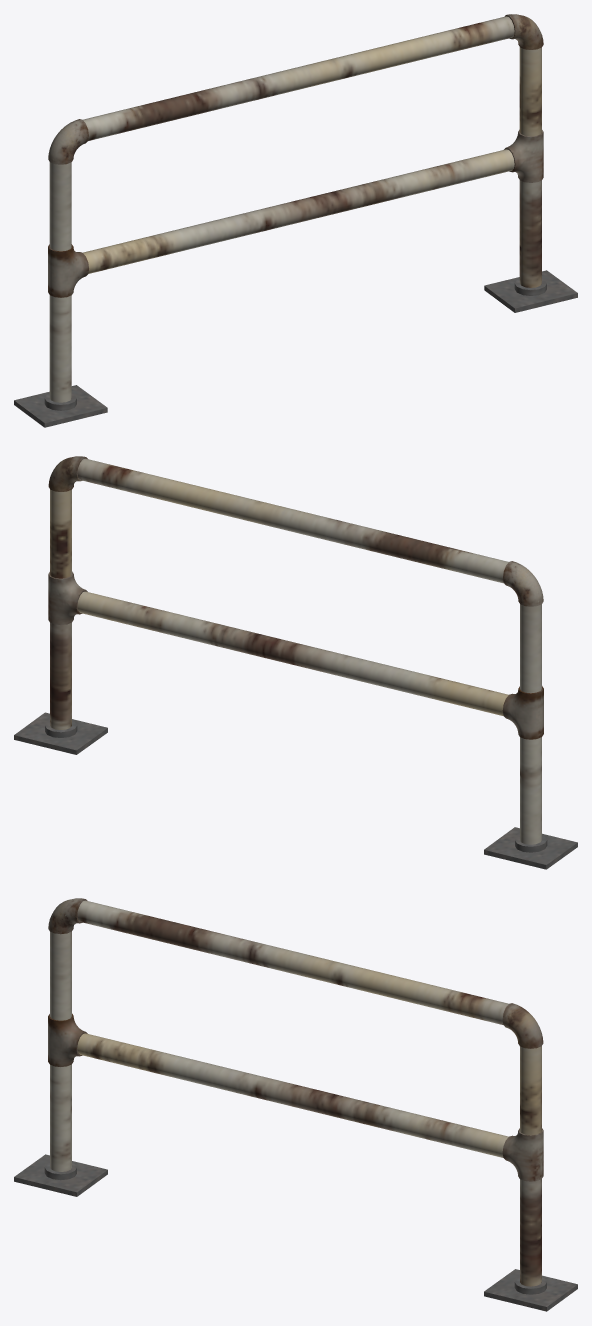
File: metal_fence01.fbx
3 renders of one model, top to bottom at view 1: azimuth 30°, elevation 25°; view 2: azimuth 150°, elevation 25°; view 3: azimuth 330°, elevation 25°, orthographic.
Visible parts, largest first — view 1: metal_fence01; view 2: metal_fence01; view 3: metal_fence01.
Boxes of the visible parts, <box> form: metal_fence01: <box>14,14,577,427</box>; metal_fence01: <box>14,456,577,869</box>; metal_fence01: <box>14,898,577,1311</box>.
Size of the model in its own units: 229 by 117 by 23.17.
